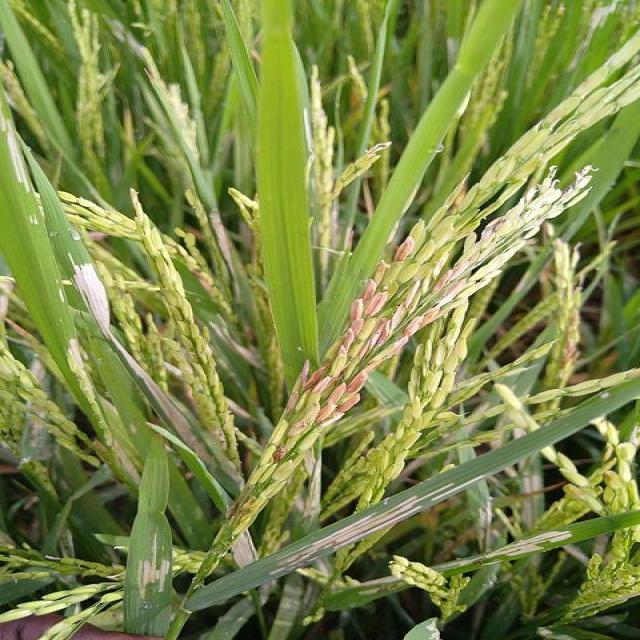Panicle Blight: (268, 216, 455, 463), (432, 218, 505, 294), (223, 487, 264, 548), (192, 267, 232, 314), (564, 320, 585, 374)
